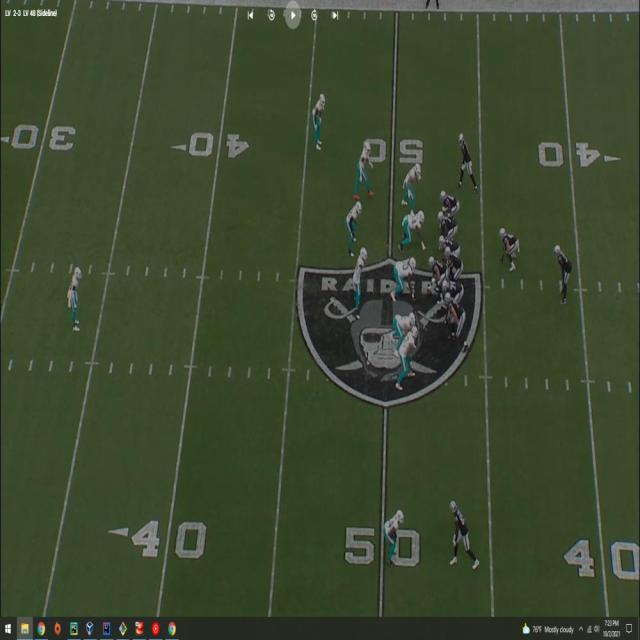center: (428, 254, 446, 294)
db: (67, 265, 83, 332), (382, 508, 403, 556), (357, 141, 373, 196), (312, 88, 326, 144)
lb: (399, 328, 422, 386), (355, 247, 369, 300), (348, 203, 364, 248)
qb: (445, 247, 463, 283)
skill: (449, 497, 474, 564), (459, 130, 476, 187), (555, 244, 569, 304), (502, 228, 518, 271), (439, 191, 458, 213)
